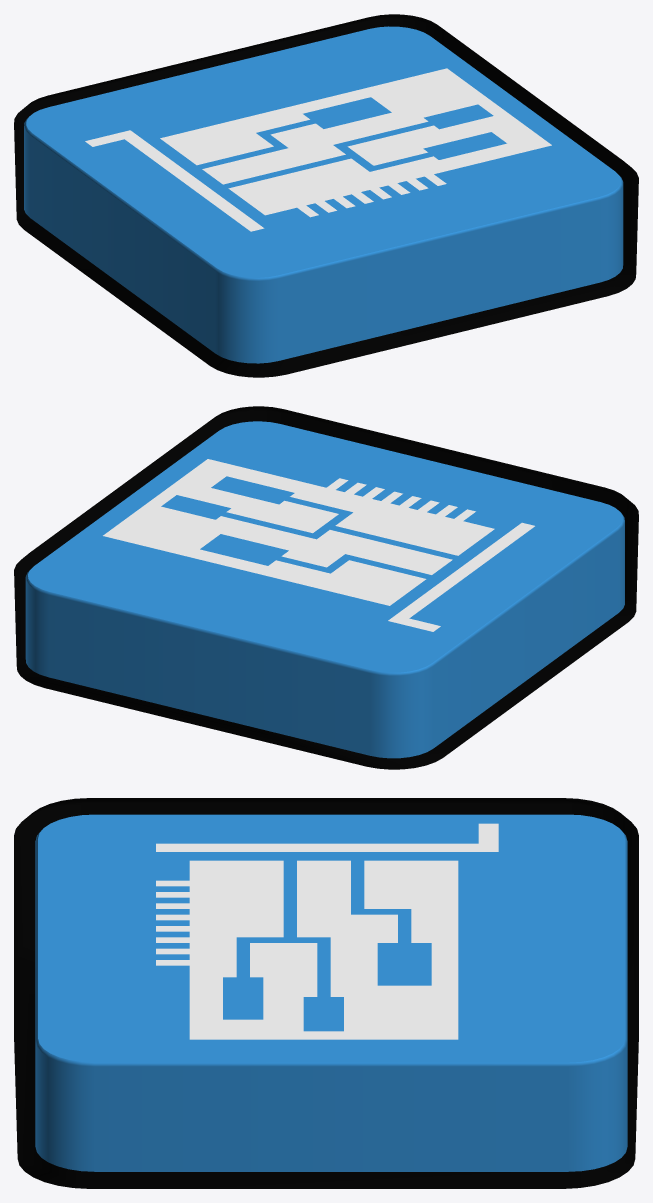
Rendered from NetCard.obj.
The picture shows the model from 3 angles, top to bottom: view 1: azimuth 30°, elevation 25°; view 2: azimuth 150°, elevation 25°; view 3: azimuth 270°, elevation 25°; orthographic projection. The views are drawn at different scales.
Parts seen in each view (by area): view 1: NetCard; view 2: NetCard; view 3: NetCard.
Part boxes in pixels (box(x1,y1,x2,y2)): NetCard: box(14, 14, 638, 377); NetCard: box(14, 406, 638, 769); NetCard: box(14, 798, 638, 1188).
Bounding box in the file's own units: 1.06 × 0.2484 × 1.06.
